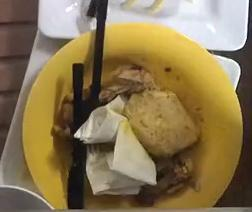pork: (125, 91, 199, 156)
